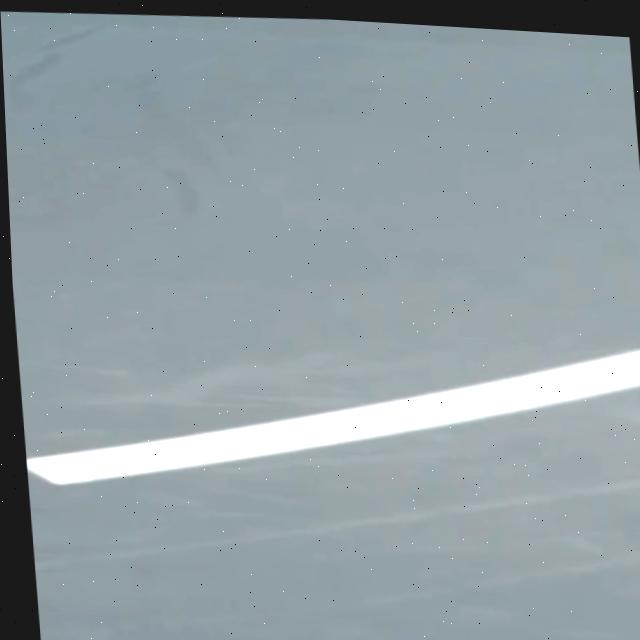center: (25, 348, 640, 483)
